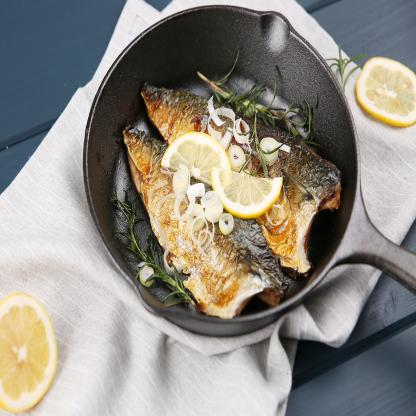Peixe: (120, 73, 339, 313)
